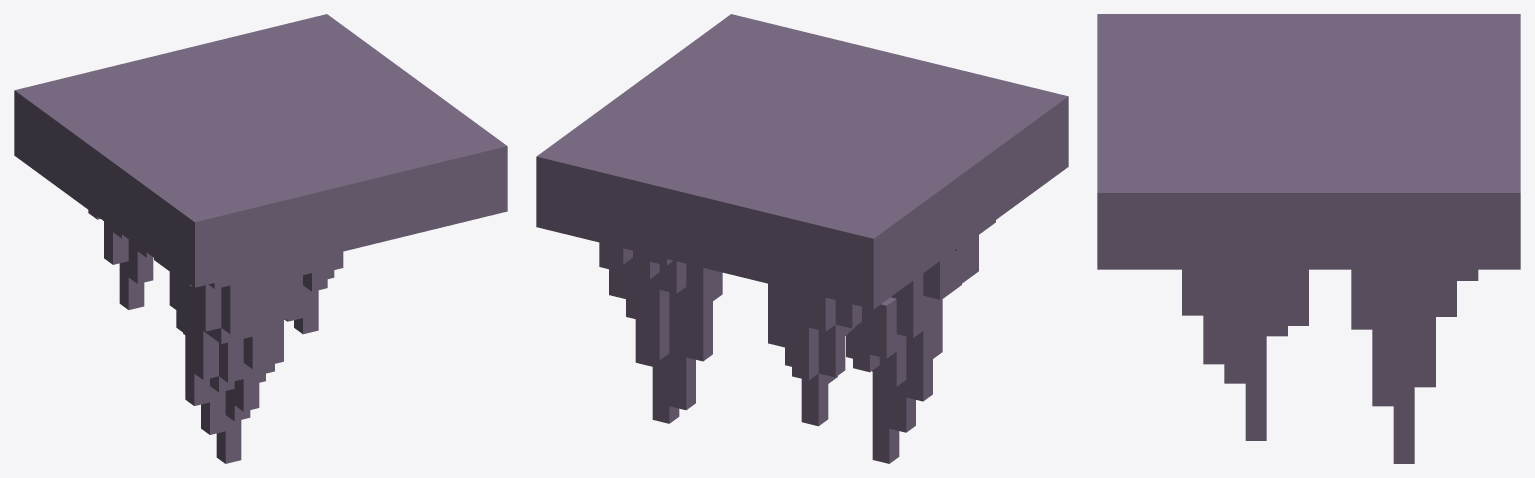
Rendered from Floors-2.obj.
3 views of the same model, side by side, from view 1: azimuth 30°, elevation 25°; view 2: azimuth 150°, elevation 25°; view 3: azimuth 270°, elevation 25° (orthographic). The views are drawn at different scales.
Size of the model in its own units: 2 by 1.9 by 2.
Materials: 1 (1 with a texture image).
